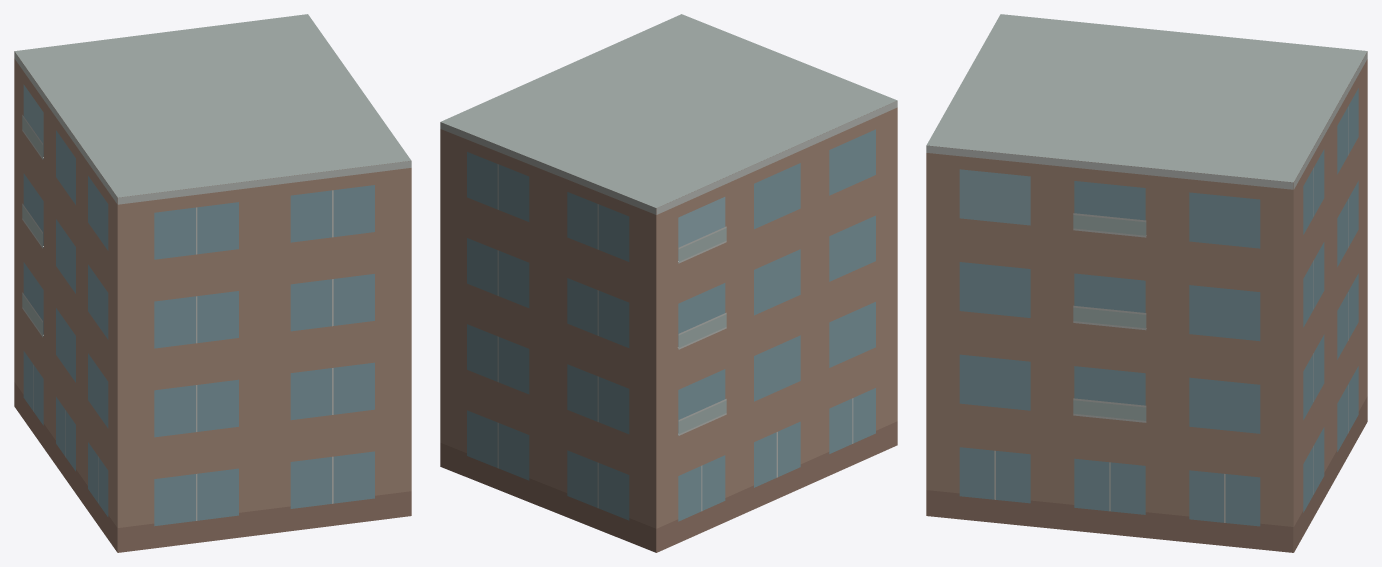
The model's file is residential-0c3f1e32-1732-4e9e-9535-a1bda45c571d.glb.
The picture shows the model from 3 angles, left to right: view 1: azimuth 30°, elevation 25°; view 2: azimuth 150°, elevation 25°; view 3: azimuth 270°, elevation 25°; orthographic projection. The views are drawn at different scales.
Visible parts, largest first — view 1: residential-0c3f1e32-1732-4e9e-9535-a1bda45c571d.tmp; view 2: residential-0c3f1e32-1732-4e9e-9535-a1bda45c571d.tmp; view 3: residential-0c3f1e32-1732-4e9e-9535-a1bda45c571d.tmp.
Boxes of the visible parts, x1,y1,x2,y2 form: residential-0c3f1e32-1732-4e9e-9535-a1bda45c571d.tmp: [14, 14, 411, 552]; residential-0c3f1e32-1732-4e9e-9535-a1bda45c571d.tmp: [440, 14, 897, 552]; residential-0c3f1e32-1732-4e9e-9535-a1bda45c571d.tmp: [926, 14, 1367, 552].
Bounding box in the file's own units: 11.9 × 12.2 × 13.18.
